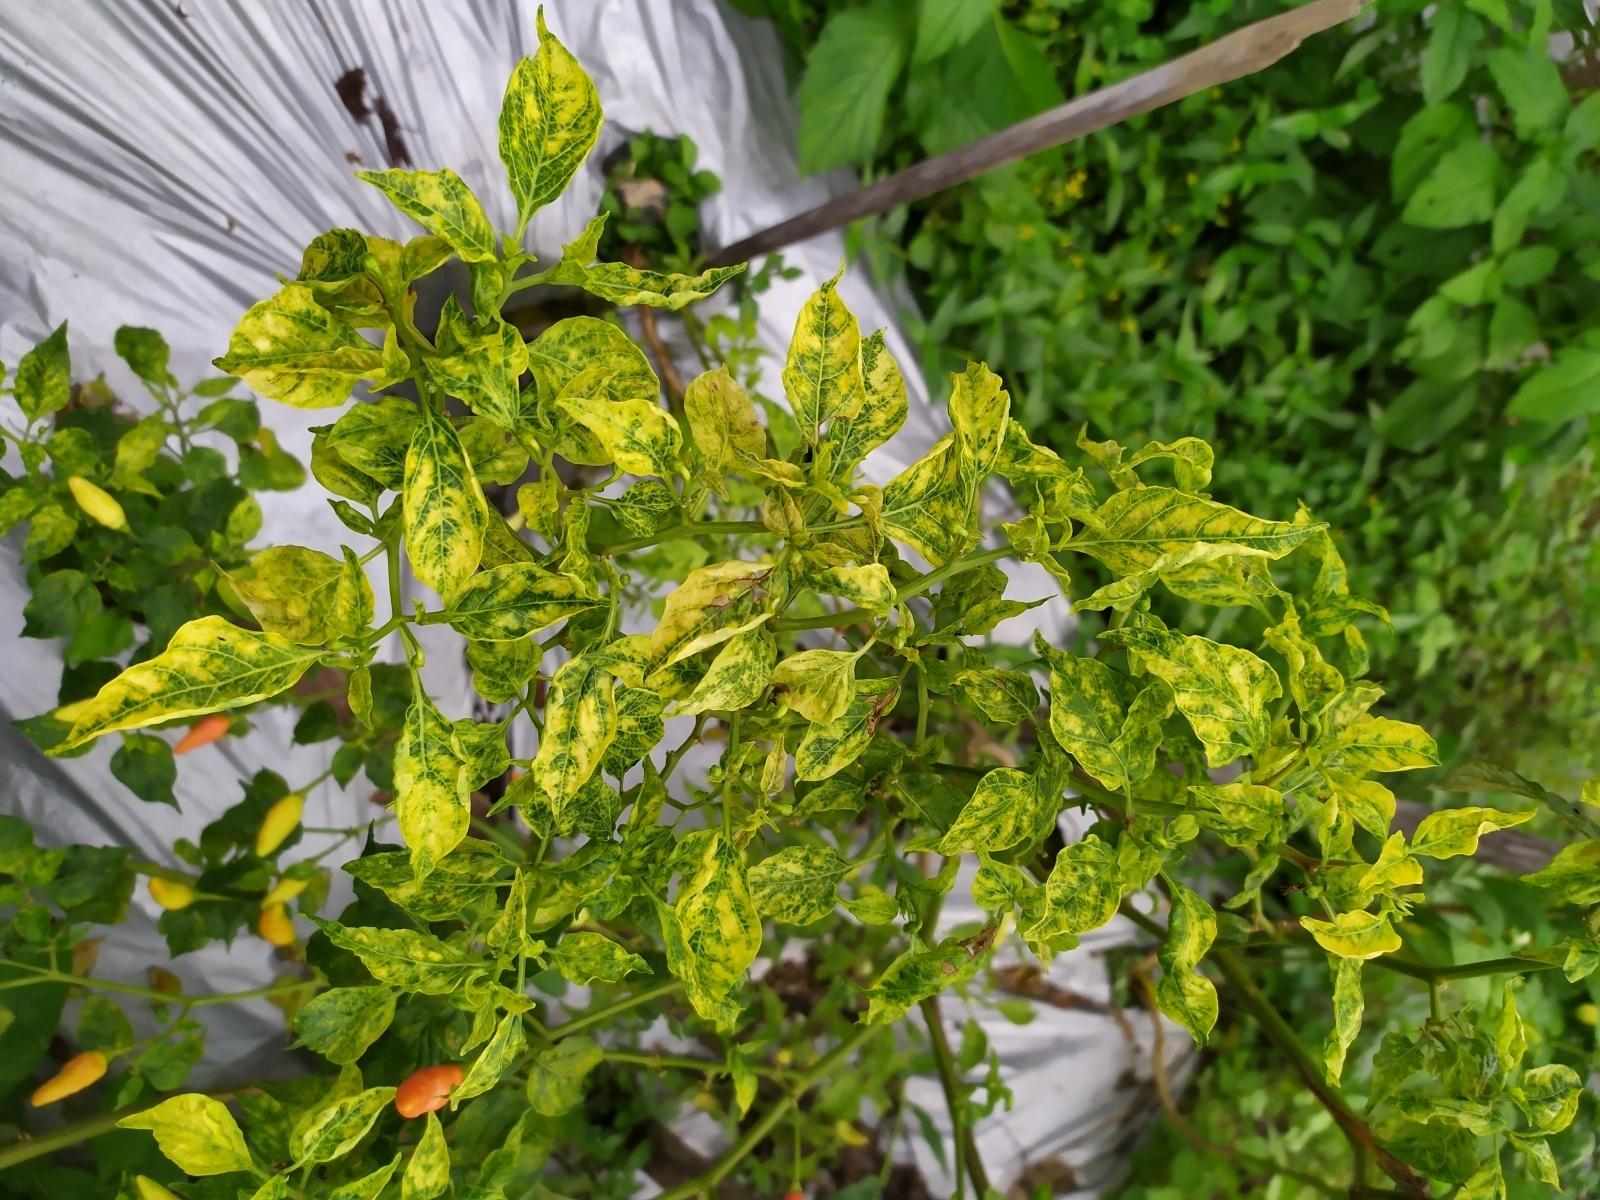cabai_normal: (29, 1051, 110, 1107), (396, 1064, 465, 1118), (256, 794, 306, 858), (67, 476, 122, 526), (171, 716, 233, 756), (258, 903, 295, 945), (146, 879, 193, 911)
